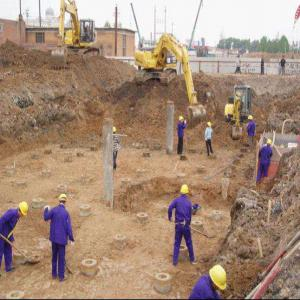yellow: (211, 265, 229, 292), (18, 202, 29, 218), (60, 194, 68, 207), (182, 185, 190, 196), (267, 139, 272, 147), (179, 117, 184, 124), (207, 123, 212, 129), (249, 116, 253, 123)
